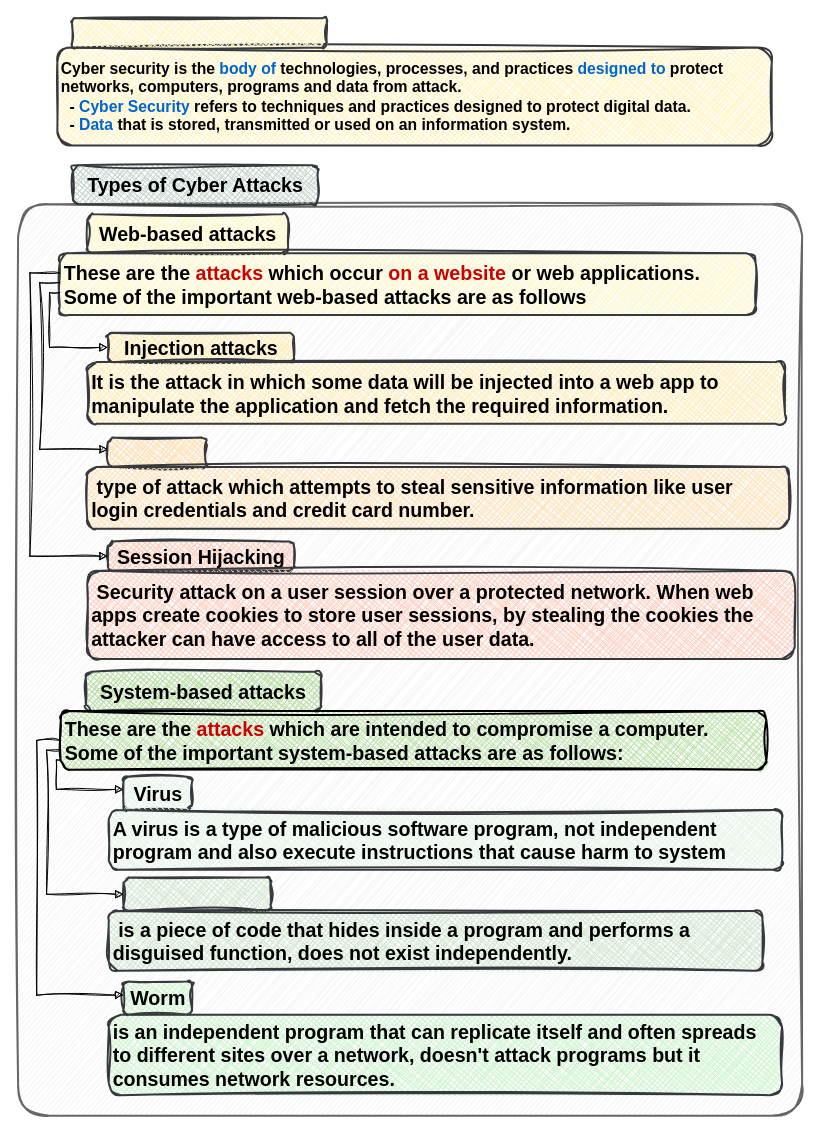
The diagram is 819 pixels wide and 1133 high, and some of its shapes have lost their labels. Each missing label, with the box of its shape:
Phishing: (106, 436, 206, 467)
Trojan horse: (122, 876, 271, 911)
What is cyber security?: (71, 17, 327, 48)
